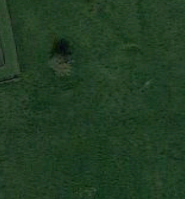tree: (42, 51, 78, 78)
